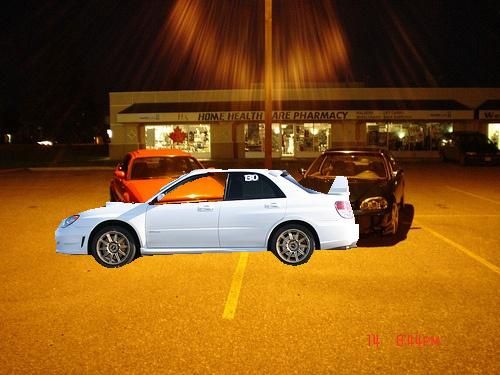tampered: (56, 170, 359, 268)
